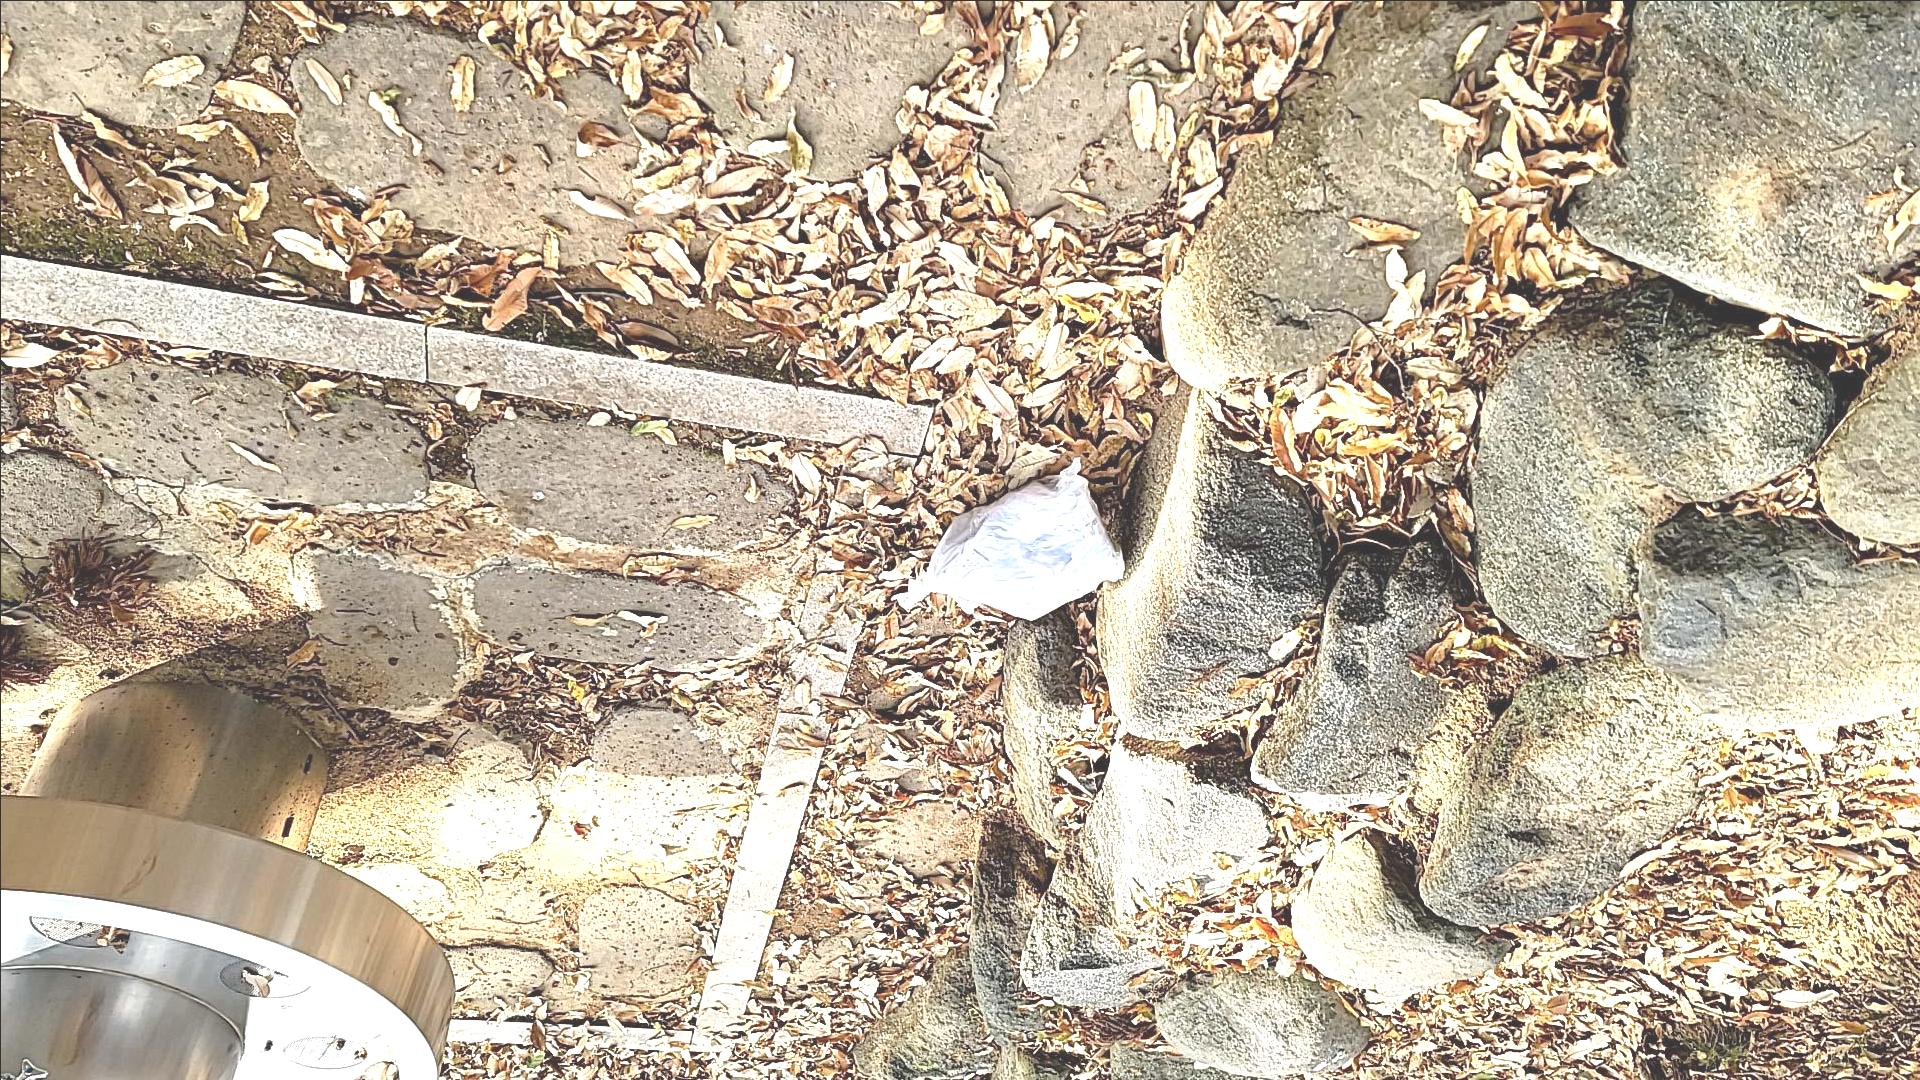white_bag: (884, 464, 1149, 634)
